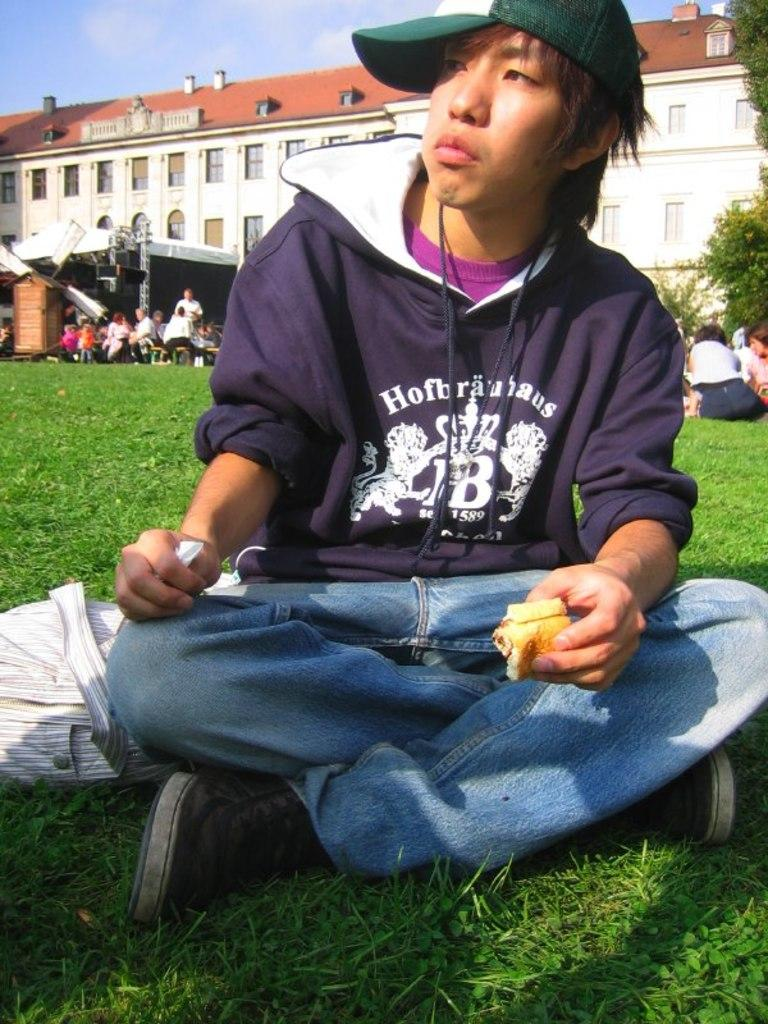Hat: (352, 0, 644, 96)
